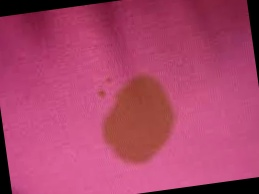oil: (95, 65, 185, 170)
